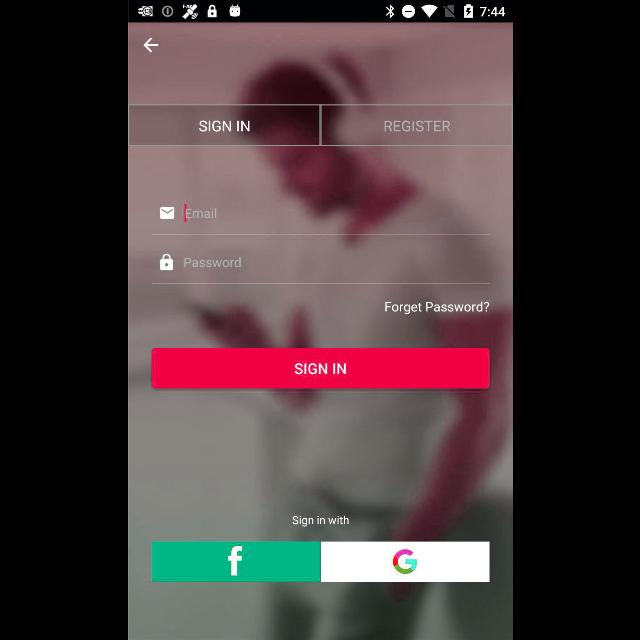backgroundimage: (128, 22, 512, 640)
icon: (142, 38, 158, 52), (160, 253, 172, 270), (159, 207, 173, 219)
input: (150, 253, 490, 284), (151, 203, 489, 234)
text: (385, 302, 489, 314), (292, 515, 348, 527), (182, 258, 240, 268), (184, 208, 216, 220)
textbutton: (151, 348, 489, 389), (128, 104, 320, 146), (320, 105, 512, 147), (150, 542, 320, 582), (320, 542, 490, 582)
uppertaskbar: (128, 1, 512, 23)
